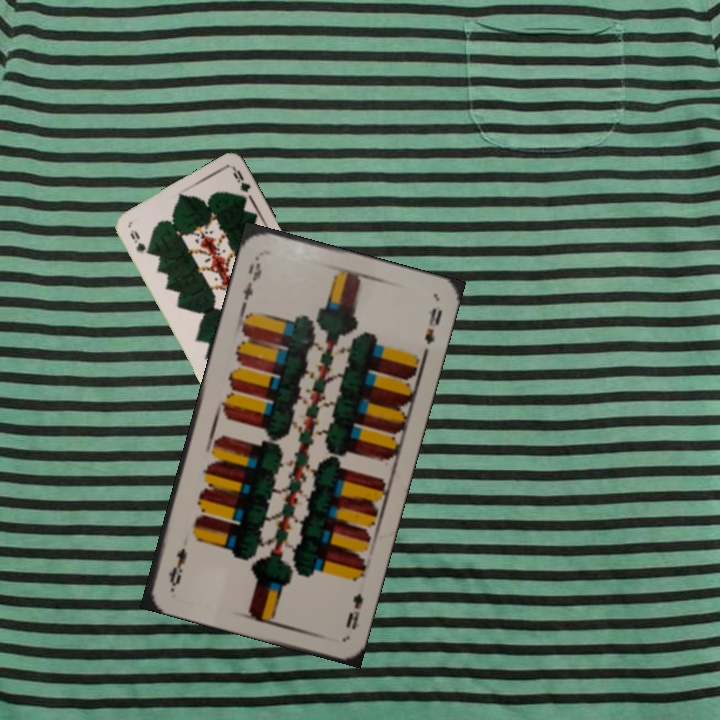E9: (238, 251, 264, 309), (341, 588, 366, 632)
G9: (126, 226, 153, 257)
